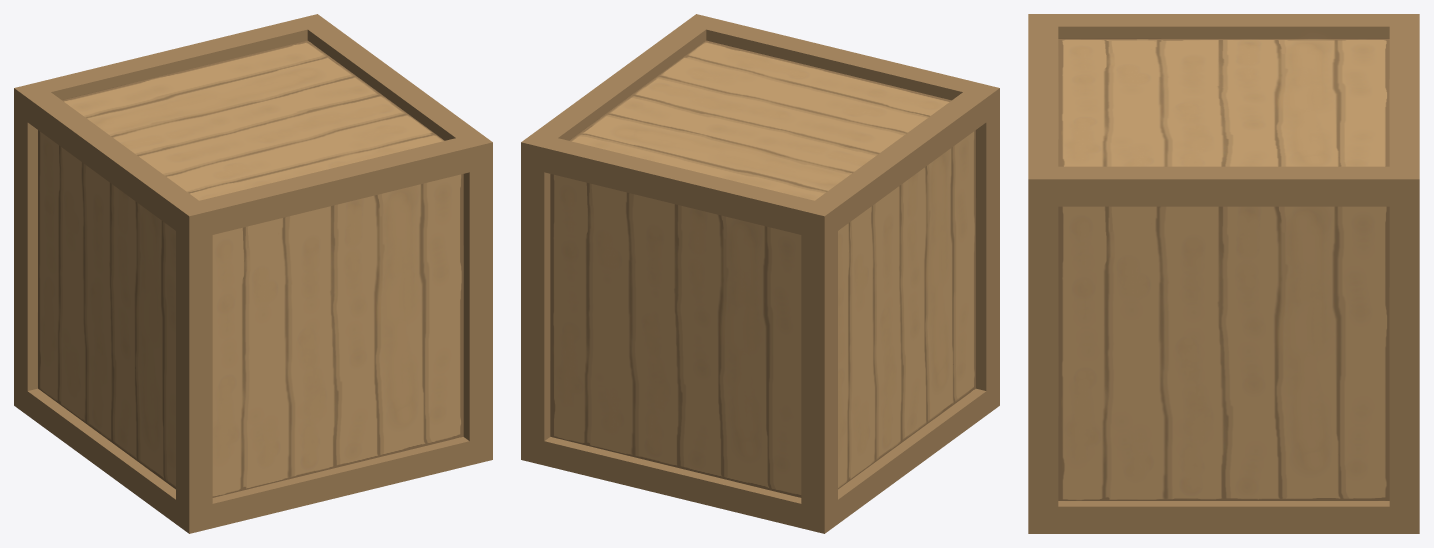
The picture shows the model from 3 angles, left to right: view 1: azimuth 30°, elevation 25°; view 2: azimuth 150°, elevation 25°; view 3: azimuth 270°, elevation 25°; orthographic projection. The views are drawn at different scales.
Parts seen in each view (by area): view 1: Cube; view 2: Cube; view 3: Cube.
Boxes of the visible parts, x1=… form: Cube: x1=14, y1=14, x2=492, y2=533; Cube: x1=521, y1=14, x2=999, y2=533; Cube: x1=1028, y1=14, x2=1419, y2=533.
Bounding box in the file's own units: 200 × 200 × 200.
1 material, 1 textured.
